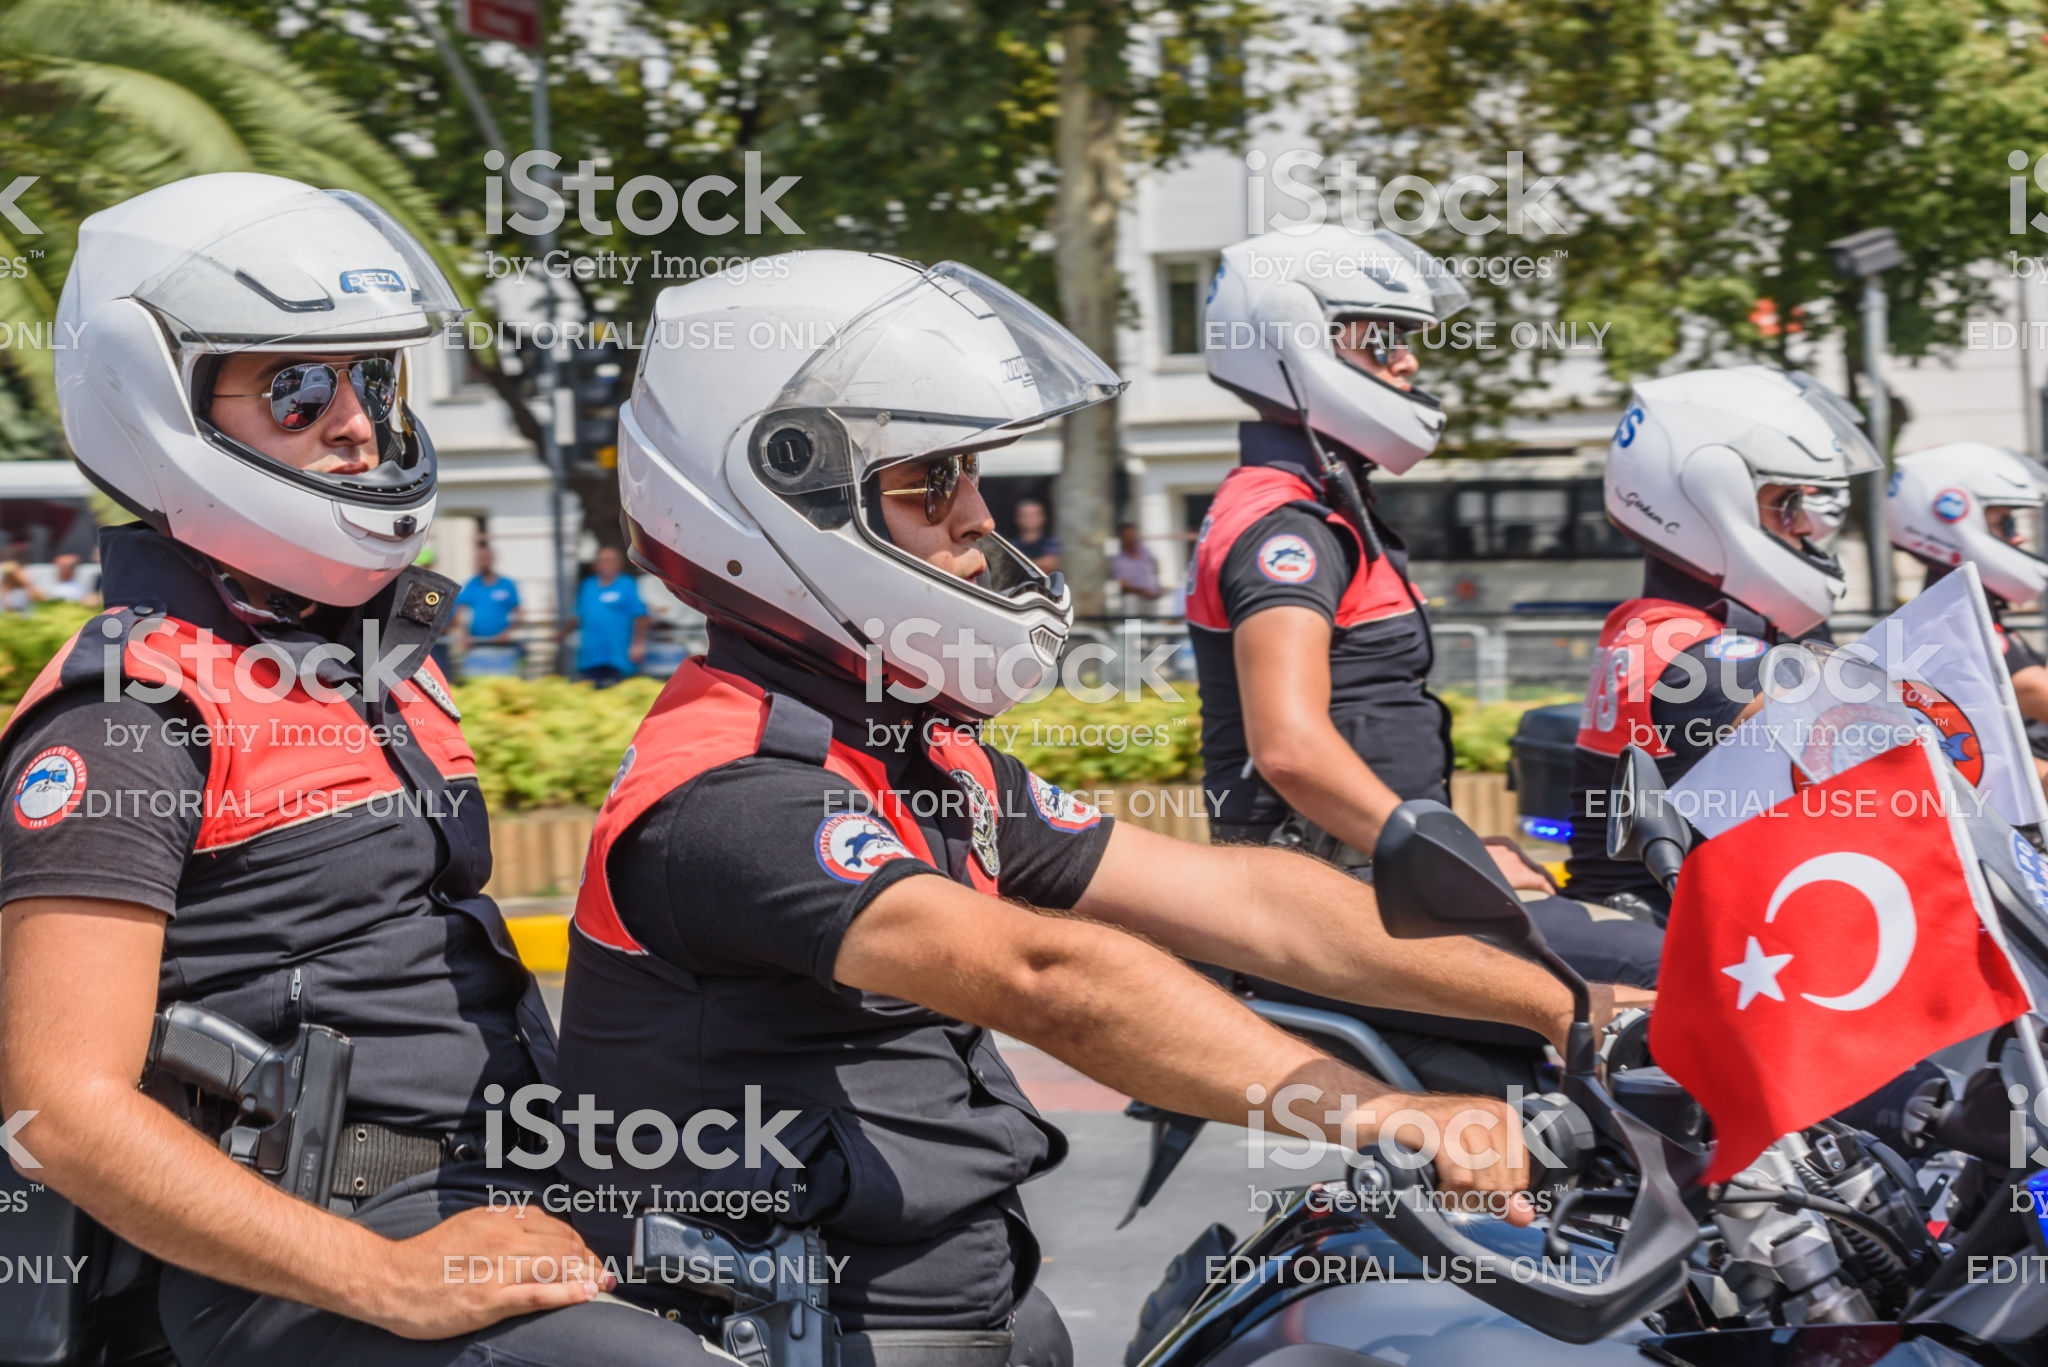helmet: (589, 232, 1113, 659), (52, 179, 483, 626), (1173, 214, 1453, 484), (1594, 375, 1879, 639)
